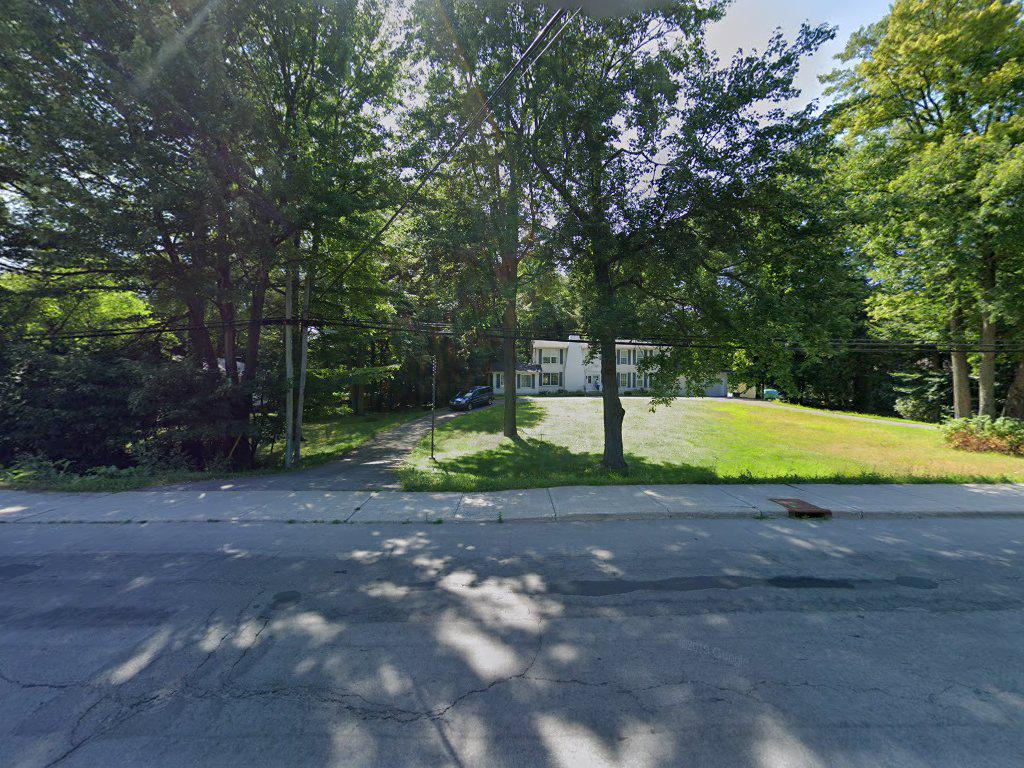trunk: (597, 348, 634, 492)
